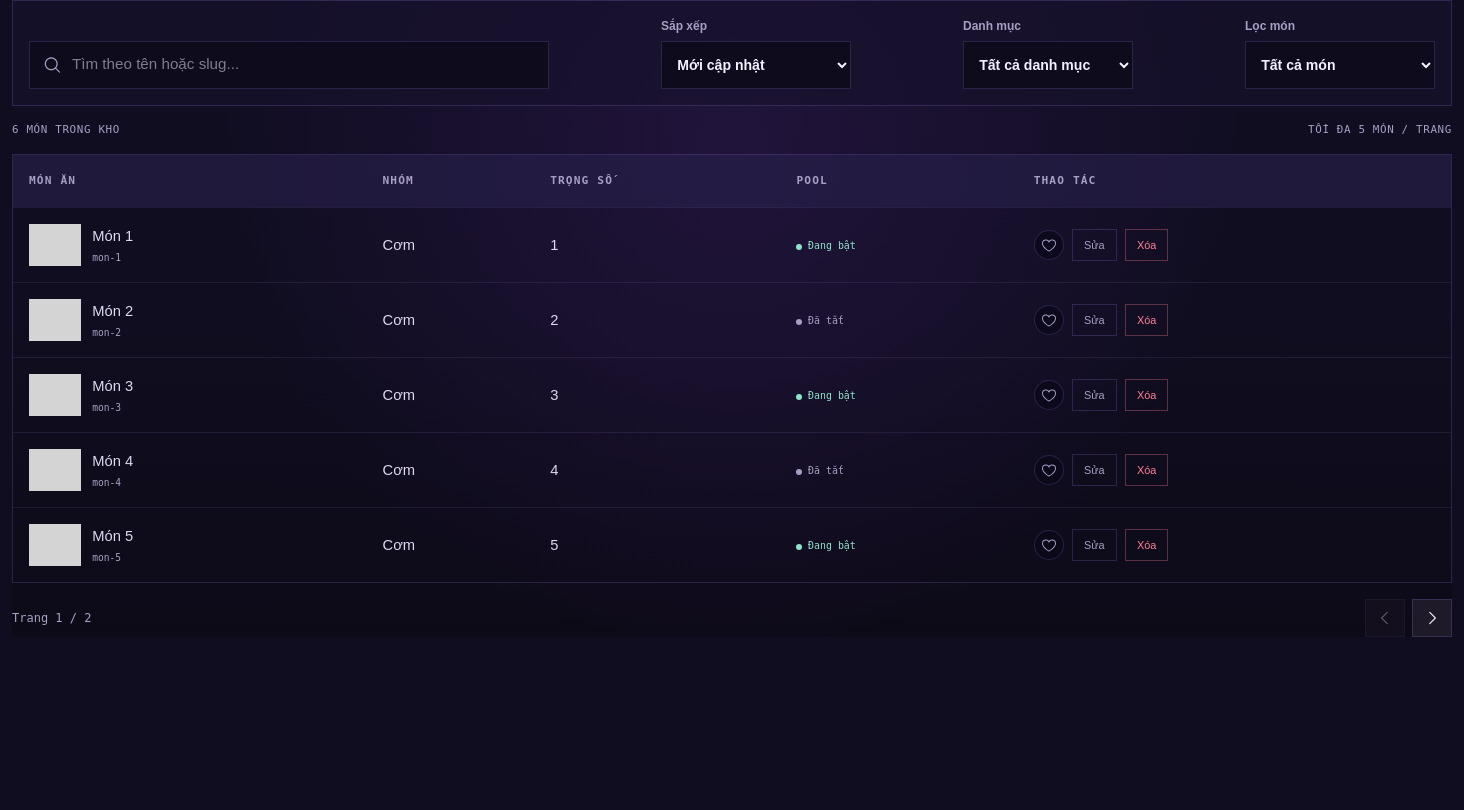
DishTable › filters dishes by category without reloading the list
Step 1. Select "Bún phở" in the dropdown labelled "Danh mục" → (1048, 65), box [963, 41, 1133, 89]
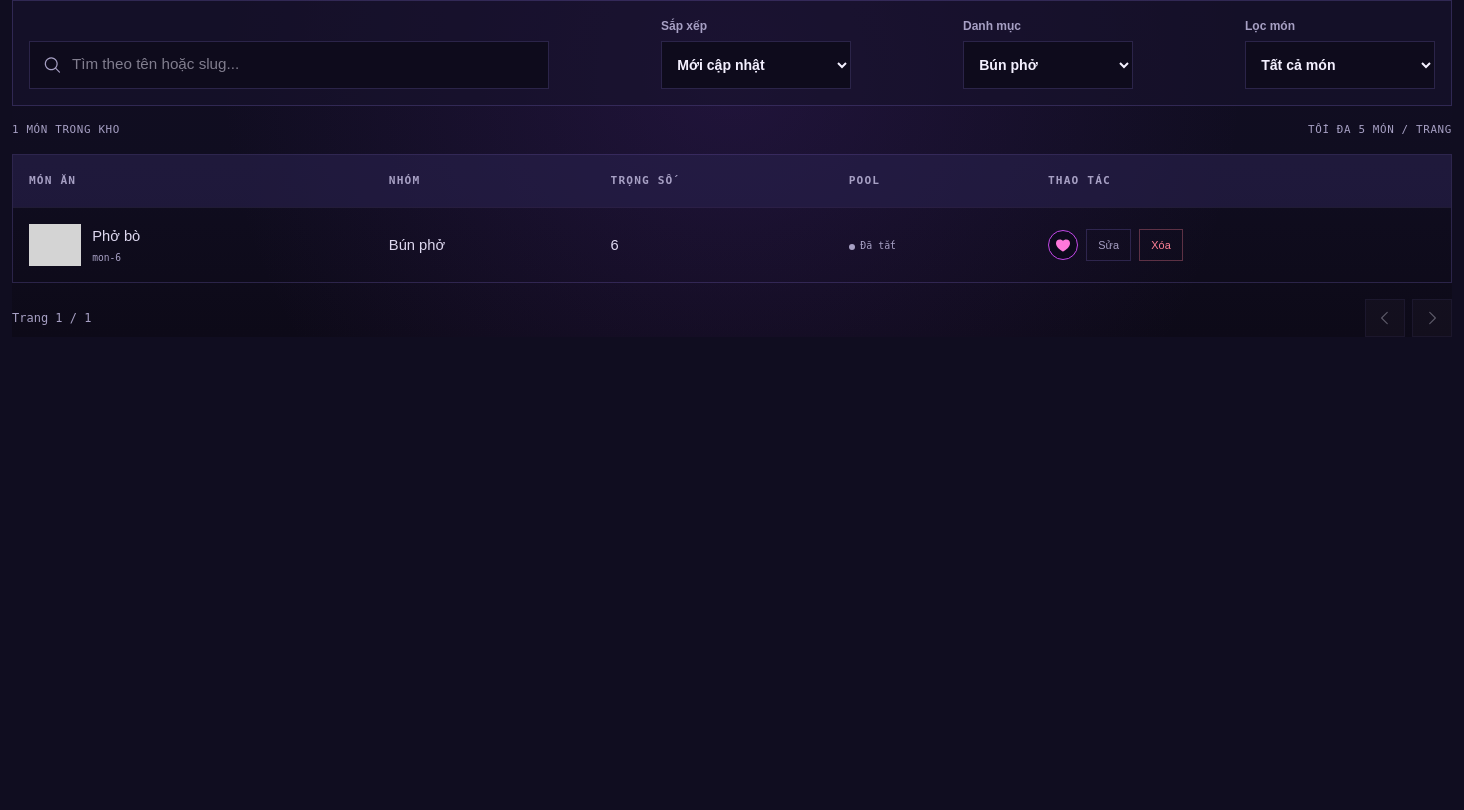
expect the number of rows is 2: met, box [13, 155, 1451, 207]; [13, 207, 1451, 282]
expect the text "Phở bò" is shown: met, box [92, 228, 140, 244]
expect the text "1 món trong kho" is shown: met, box [12, 122, 120, 138]
